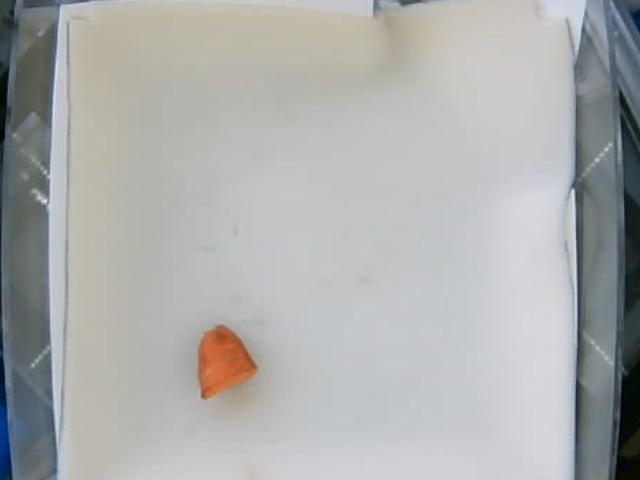Carrot: (200, 323, 254, 399)
